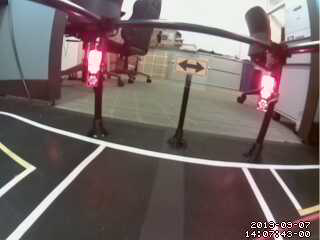Left_Right_sign: (175, 55, 212, 79)
Traffic_light_red: (83, 49, 105, 89), (258, 71, 274, 114)
